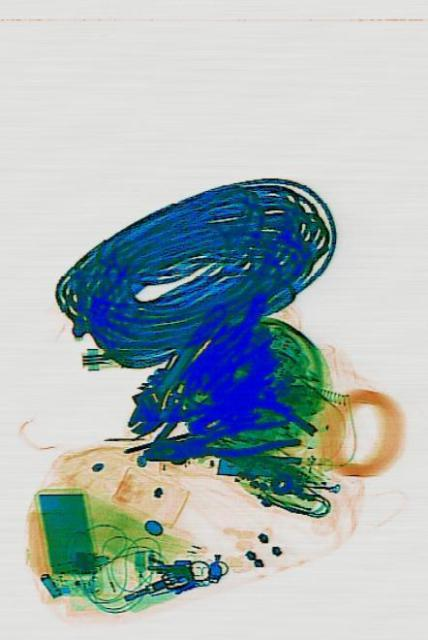Pliers: (139, 410, 297, 472)
Wrench: (115, 282, 237, 450)
